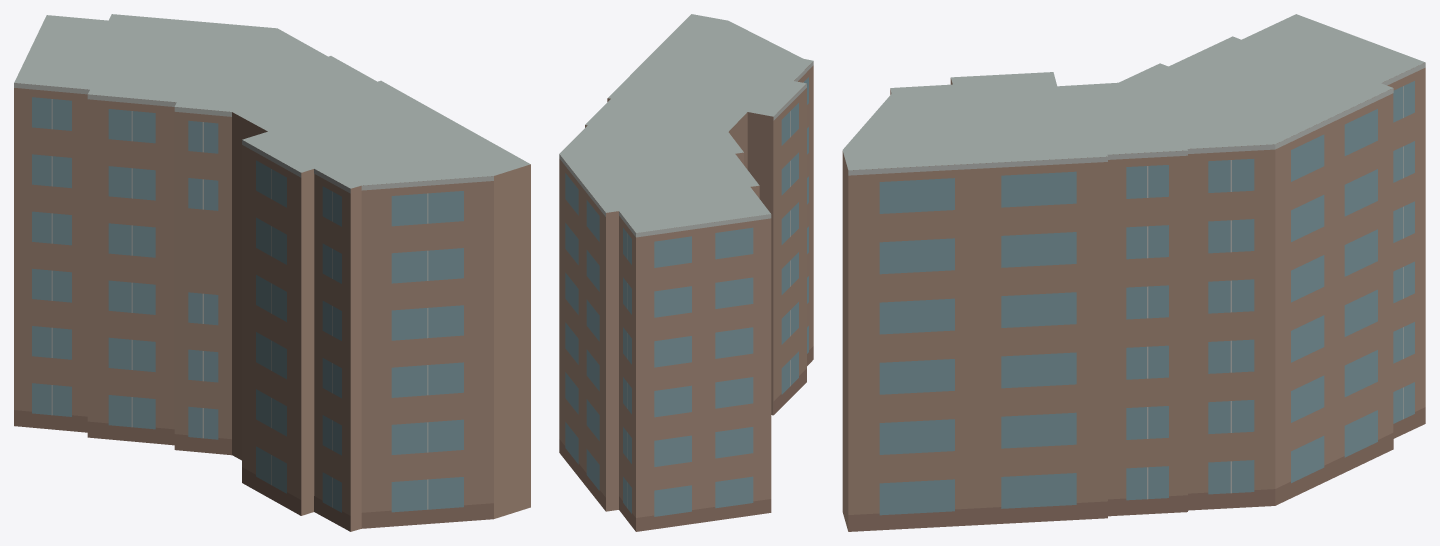
The model's file is survey-upis-32520346.glb.
3 renders of one model, left to right at view 1: azimuth 30°, elevation 25°; view 2: azimuth 150°, elevation 25°; view 3: azimuth 270°, elevation 25°, orthographic. The views are drawn at different scales.
Visible parts, largest first — view 1: survey-upis-32520346.tmp; view 2: survey-upis-32520346.tmp; view 3: survey-upis-32520346.tmp.
Boxes of the visible parts, x1,y1,x2,y2 form: survey-upis-32520346.tmp: (14, 14, 530, 531); survey-upis-32520346.tmp: (559, 14, 813, 531); survey-upis-32520346.tmp: (842, 14, 1425, 531).
Bounding box in the file's own units: 15.64 × 16.85 × 24.64.
